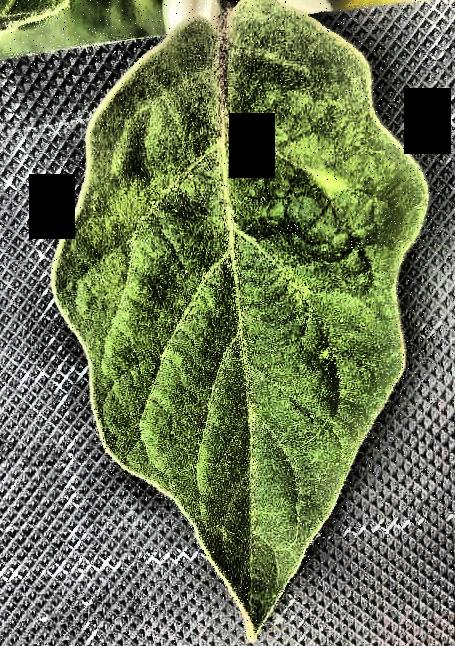HEALTHY: (1, 0, 455, 646)
